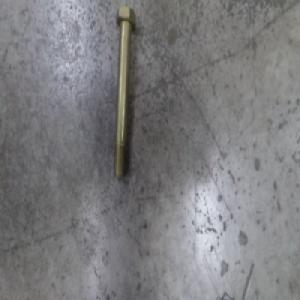Bolt: (111, 5, 137, 181)
